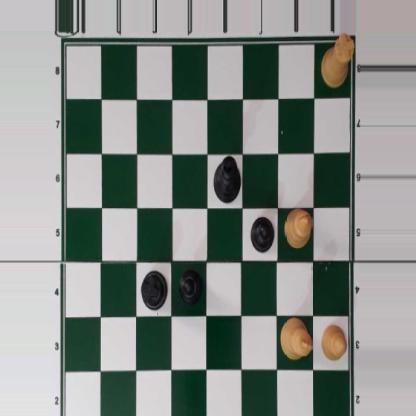black-king: (212, 153, 242, 201)
black-pawn: (250, 215, 275, 252), (177, 267, 201, 305)
black-rook: (140, 270, 168, 309)
white-bishop: (284, 207, 313, 249)
white-king: (279, 317, 313, 360)
white-pawn: (320, 324, 347, 360)
white-rook: (320, 31, 355, 88)
